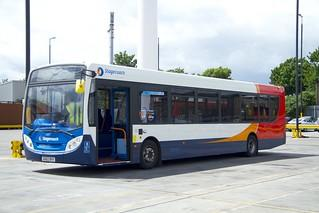bus: (22, 63, 288, 171)
